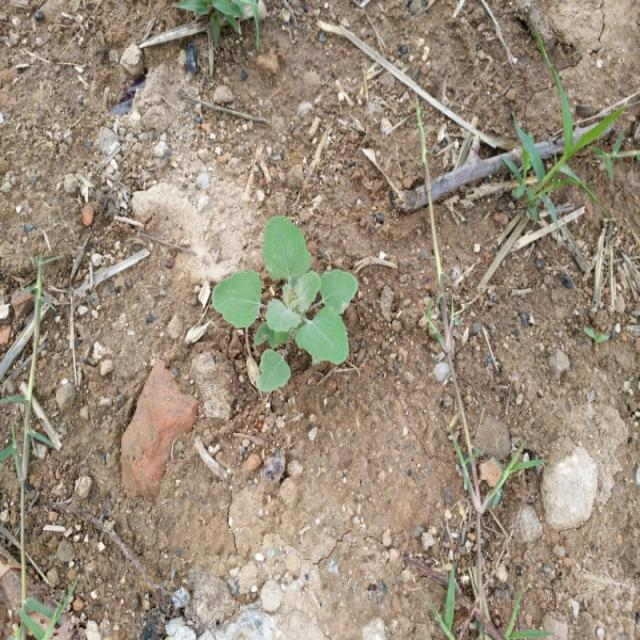ca: (212, 218, 359, 389)
